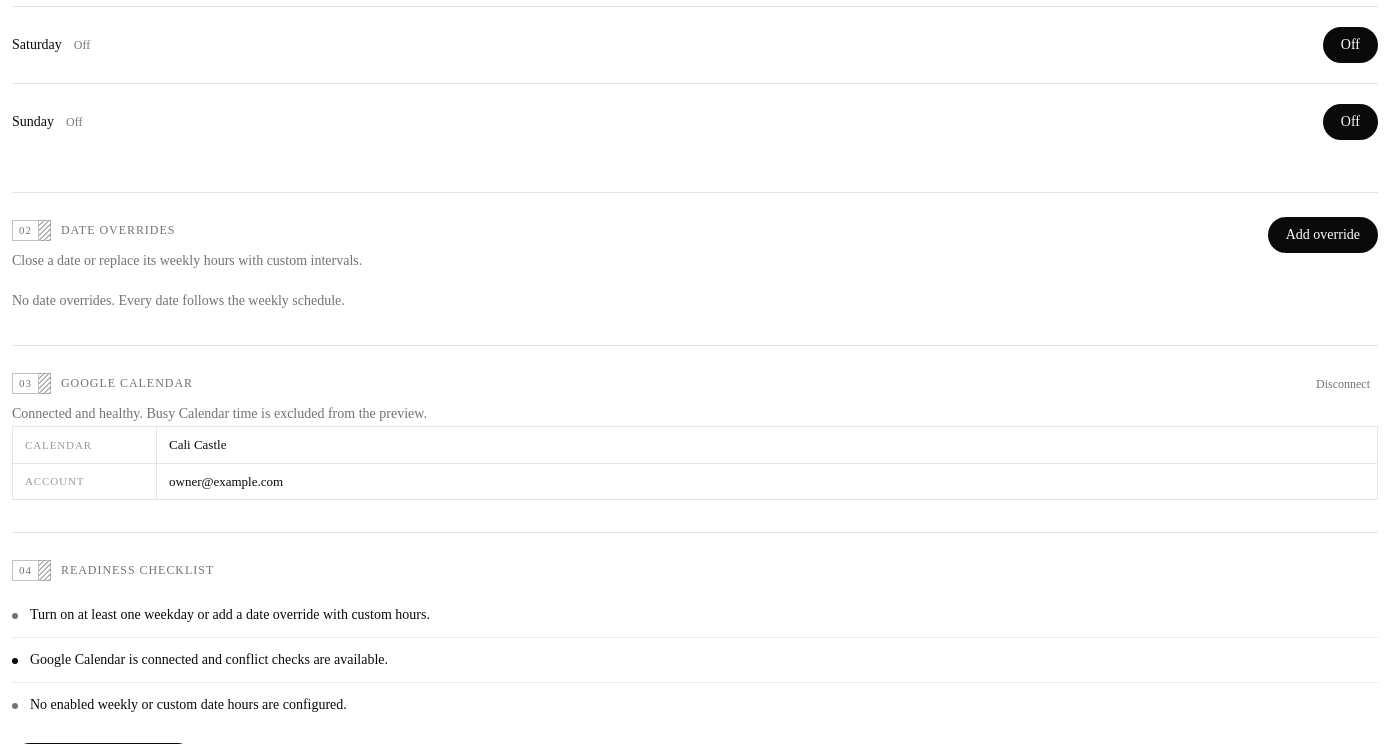
Scenario: AMA settings UI contract › keeps disconnect armed until confirmation or explicit dismissal
(page scrolled)
// The first submit arms the button instead of posting.
Submit the form "Disconnect", box x1=1308 y1=370 x2=1378 y2=398
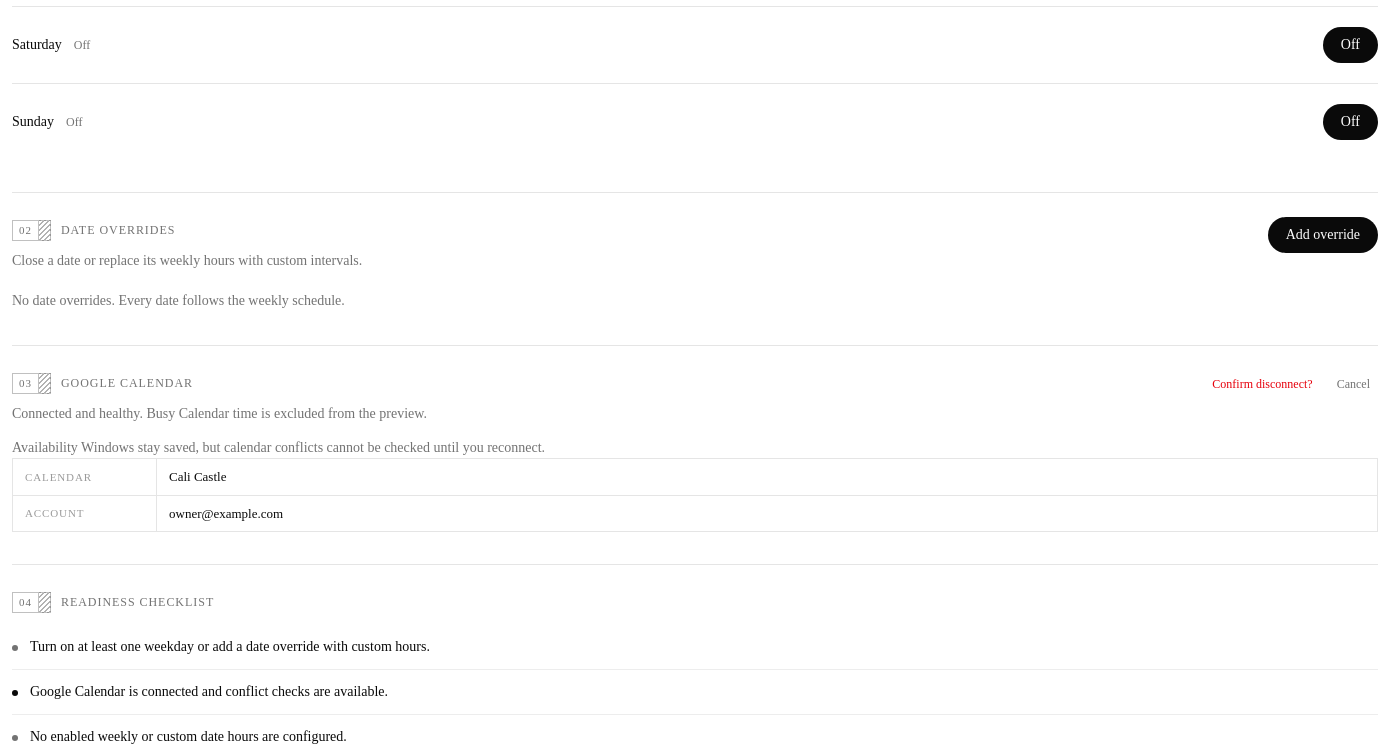
Now the button "Confirm disconnect?" is shown, box x1=1204 y1=370 x2=1321 y2=398
Click the button "Cancel".
click(1353, 384)  # box x1=1329 y1=370 x2=1378 y2=398
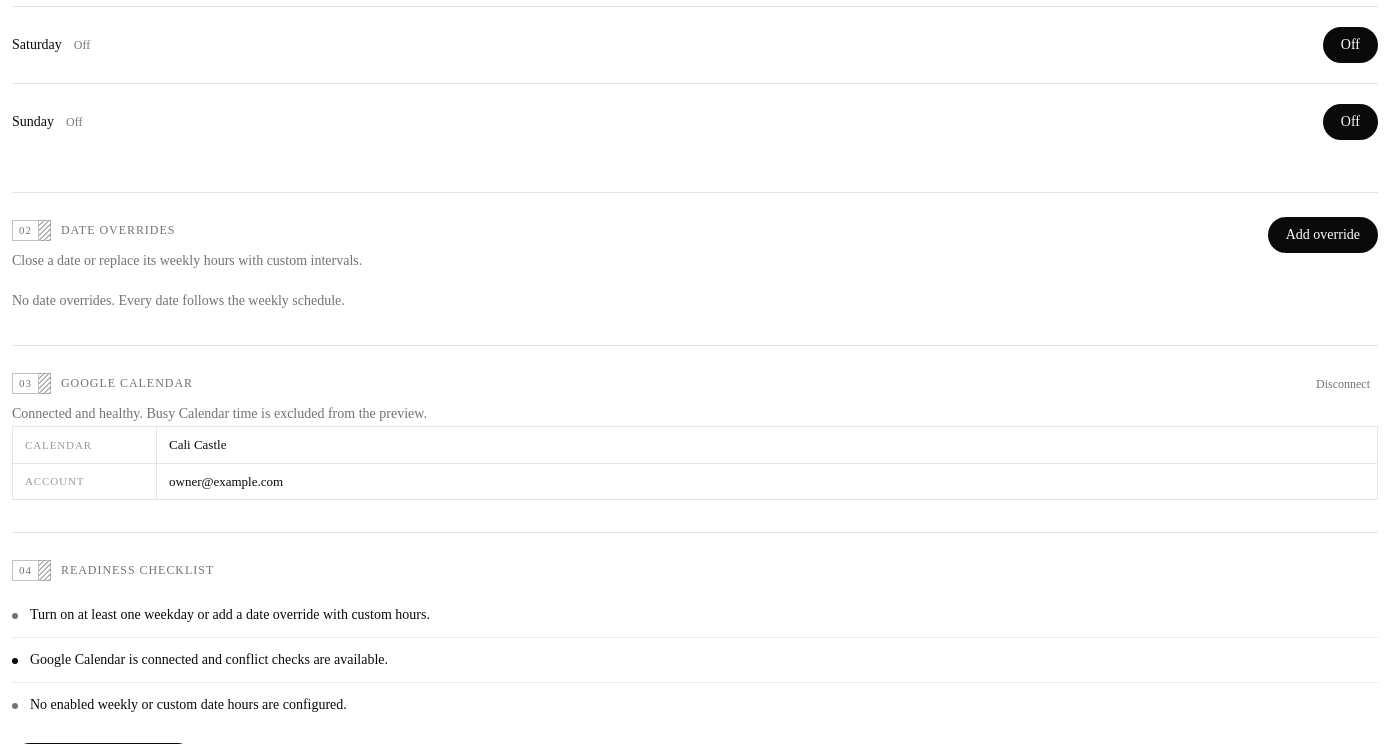
Now the button "Disconnect" is shown
Now the button "Confirm disconnect?" no longer shows "Confirm"
// Arm again and confirm: the form posts.
Submit the form "Disconnect", box x1=1308 y1=370 x2=1378 y2=398
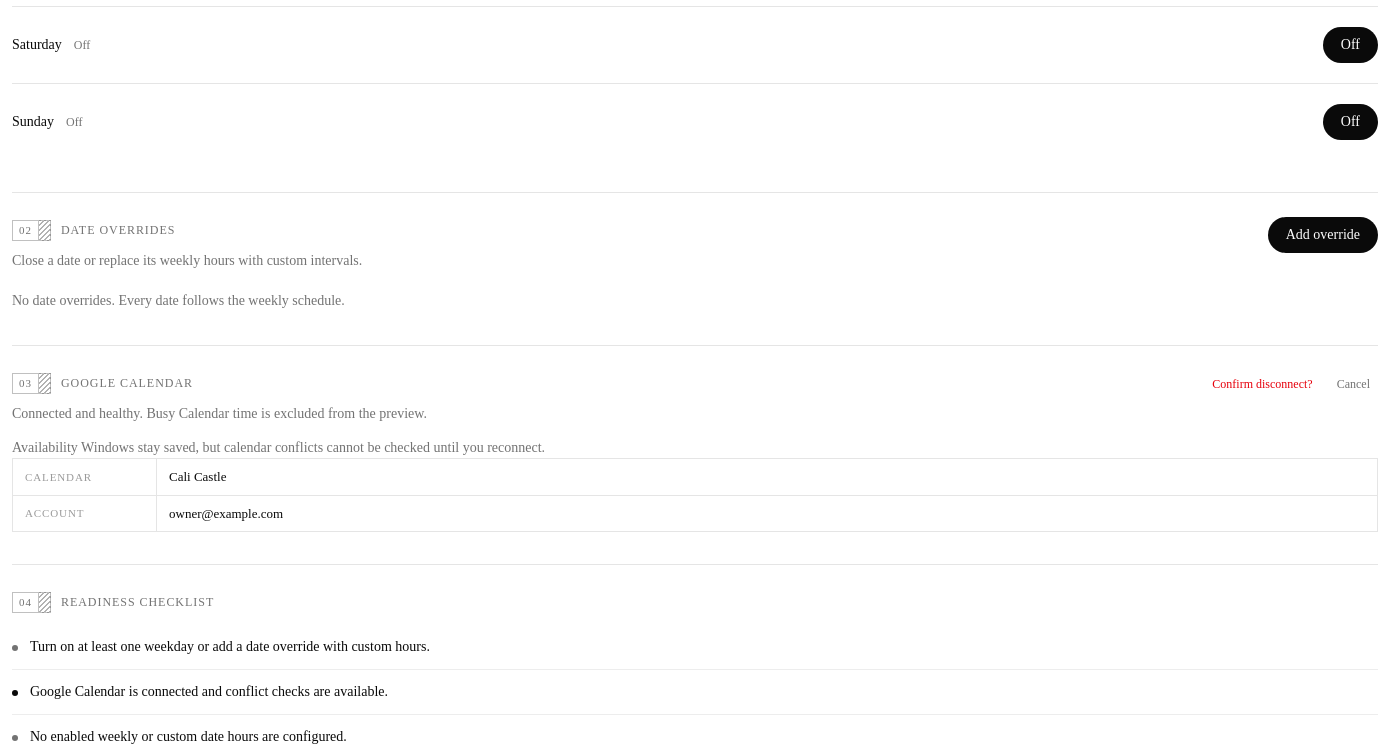
Submit the form "Confirm disconnect?", box x1=1204 y1=370 x2=1321 y2=398
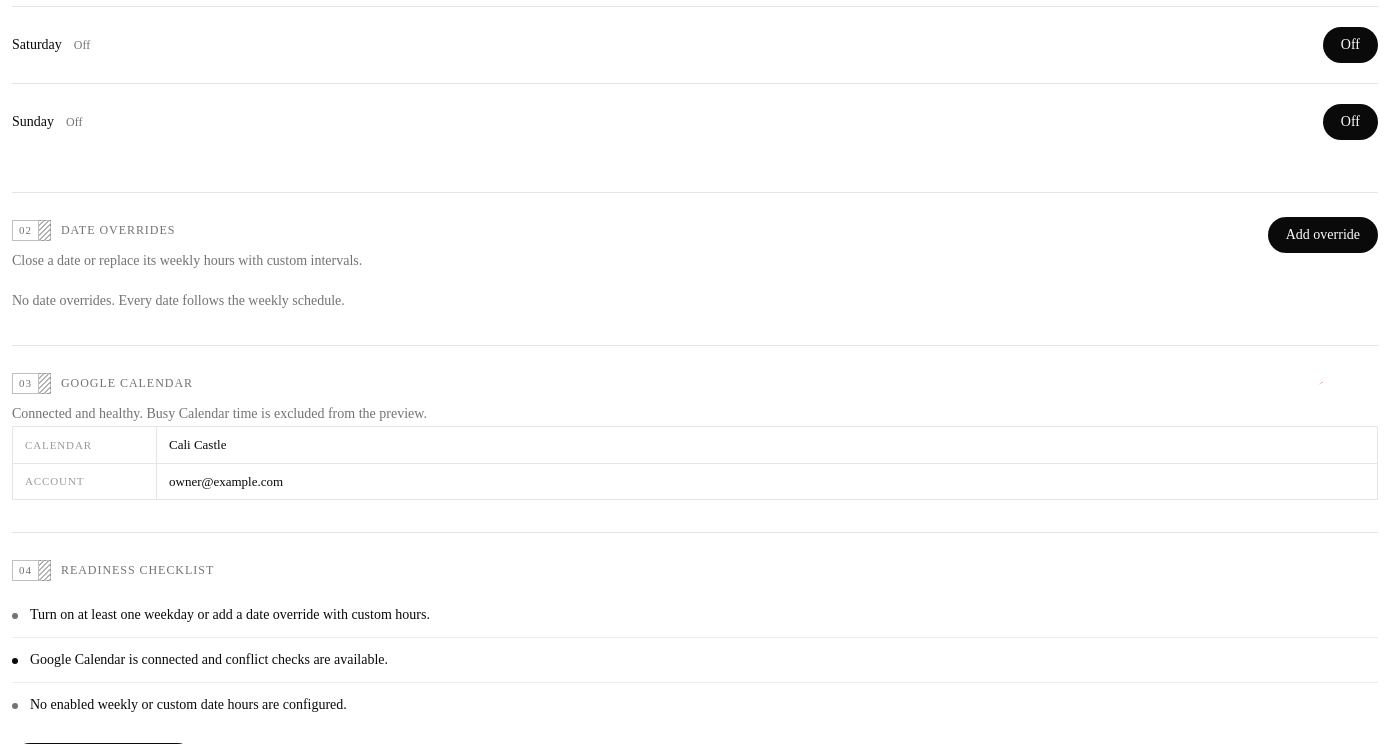
Expected: the icon is shown, x1=1313 y1=377 x2=1327 y2=391
Now the 4th button is disabled, box x1=1262 y1=370 x2=1378 y2=398
